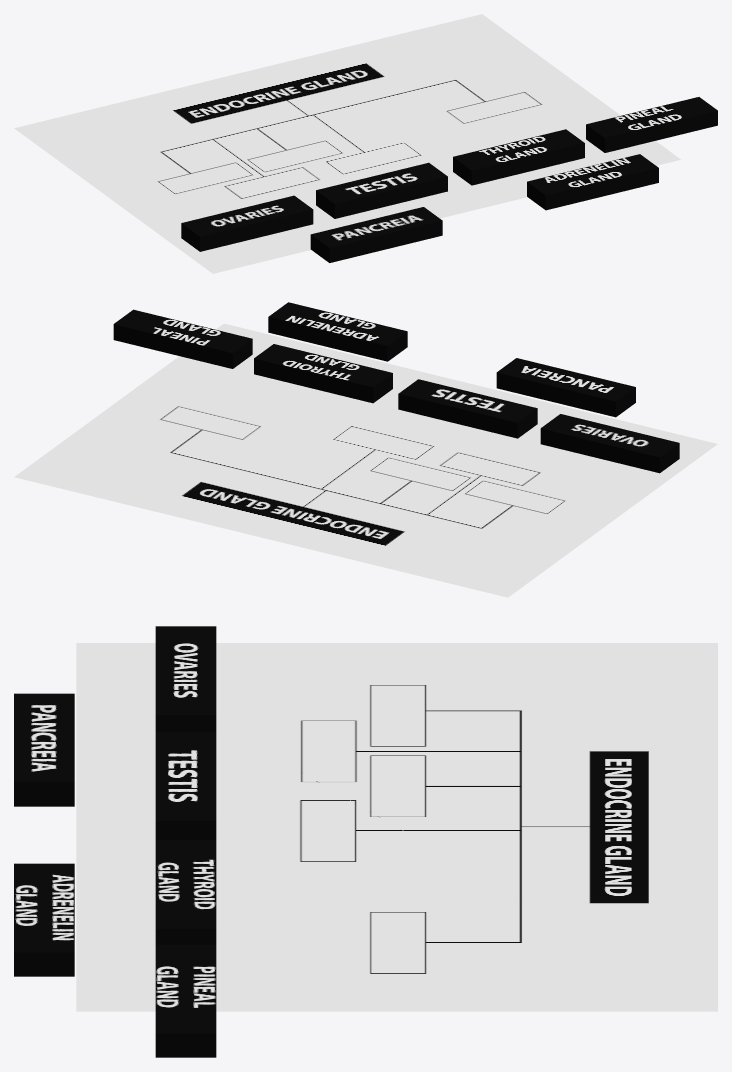
Rendered from level 5.fbx.
3 views of the same model, one above another, from view 1: azimuth 30°, elevation 25°; view 2: azimuth 150°, elevation 25°; view 3: azimuth 270°, elevation 25° (orthographic). The views are drawn at different scales.
Parts seen in each view (by area): view 1: pPlane3, THYROID_GLAND, OVARIES, TESTIES, PANCERIA, ADRENELIN_GLAND, PINEAL_GLAND; view 2: pPlane3, PANCERIA, THYROID_GLAND, ADRENELIN_GLAND, PINEAL_GLAND, OVARIES, TESTIES; view 3: pPlane3, ADRENELIN_GLAND, OVARIES, PINEAL_GLAND, PANCERIA, THYROID_GLAND, TESTIES.
Boxes of the visible parts, x1,y1,x2,y2 form: pPlane3: [14, 14, 680, 273]; THYROID_GLAND: [181, 195, 313, 251]; OVARIES: [310, 207, 442, 262]; TESTIES: [453, 129, 584, 185]; PANCERIA: [316, 162, 447, 218]; ADRENELIN_GLAND: [586, 97, 717, 152]; PINEAL_GLAND: [527, 154, 658, 210]; pPlane3: [14, 323, 717, 597]; PANCERIA: [398, 379, 537, 438]; THYROID_GLAND: [540, 414, 679, 473]; ADRENELIN_GLAND: [113, 309, 252, 368]; PINEAL_GLAND: [268, 302, 407, 361]; OVARIES: [496, 358, 635, 417]; TESTIES: [254, 344, 392, 403]; pPlane3: [76, 643, 717, 1011]; ADRENELIN_GLAND: [155, 944, 216, 1057]; OVARIES: [14, 693, 74, 806]; PINEAL_GLAND: [14, 863, 74, 976]; PANCERIA: [155, 732, 216, 839]; THYROID_GLAND: [155, 626, 216, 731]; TESTIES: [155, 840, 216, 944].
Size of the model in its own units: 468 by 13.68 by 334.
2 materials, 2 textured.
